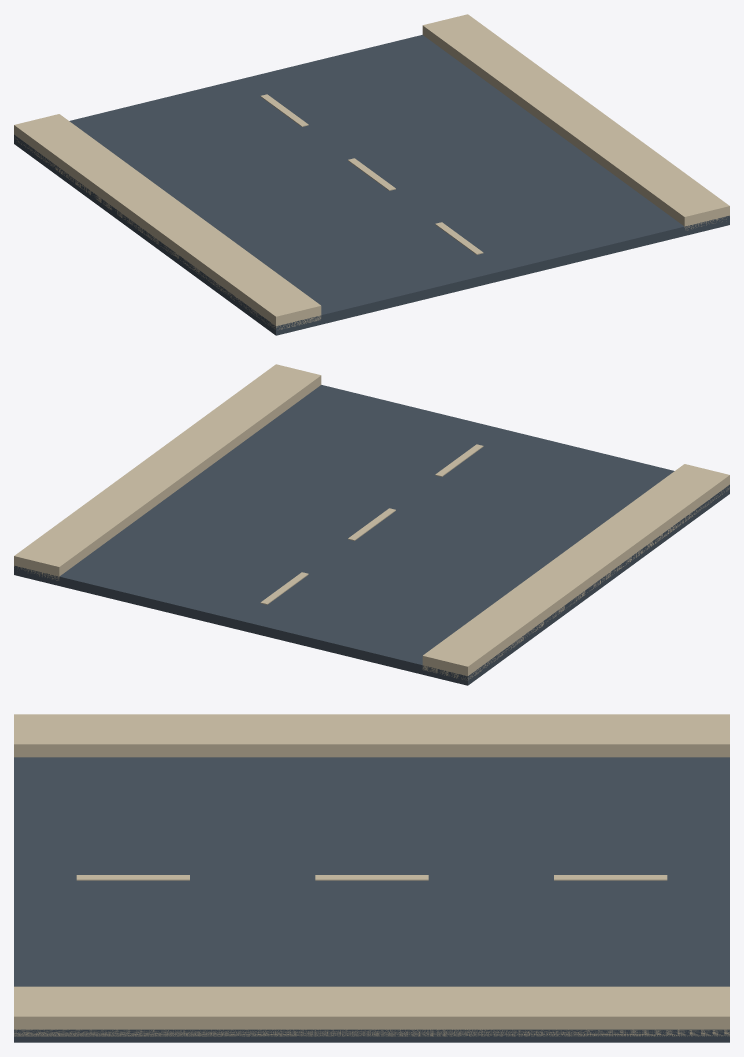
File: road-straight.glb
The picture shows the model from 3 angles, top to bottom: view 1: azimuth 30°, elevation 25°; view 2: azimuth 150°, elevation 25°; view 3: azimuth 270°, elevation 25°; orthographic projection. The views are drawn at different scales.
Parts seen in each view (by area): view 1: asset_root; view 2: asset_root; view 3: asset_root.
Boxes of the visible parts, <box> form: asset_root: <box>14,14,729,335</box>; asset_root: <box>14,364,729,685</box>; asset_root: <box>14,714,729,1042</box>.
Size of the model in its own units: 6 by 0.24 by 6.
